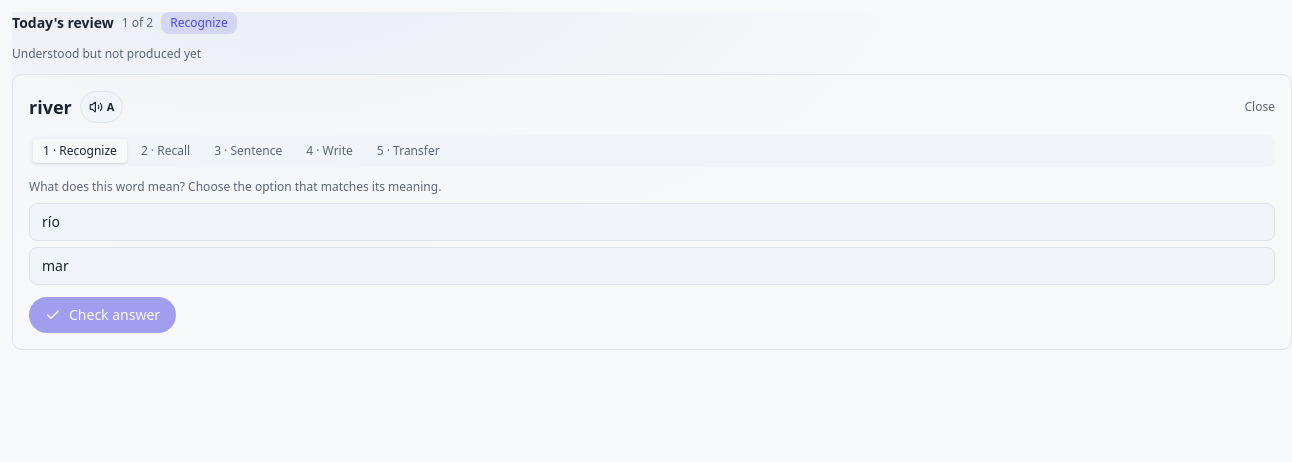
Test: ReviewToday · peldaños reconductivos y accesibilidad (V3.85.1) › un ítem servido como recognition avanza al dar veredicto y encadena (C1)
This screenshot has width=1292, height=462.
Check: the text "1 of 2" is shown, box [122, 15, 153, 31]
Check: the button "Next word" is not shown
Click the button "río" at (51, 222), box [29, 203, 1275, 241]
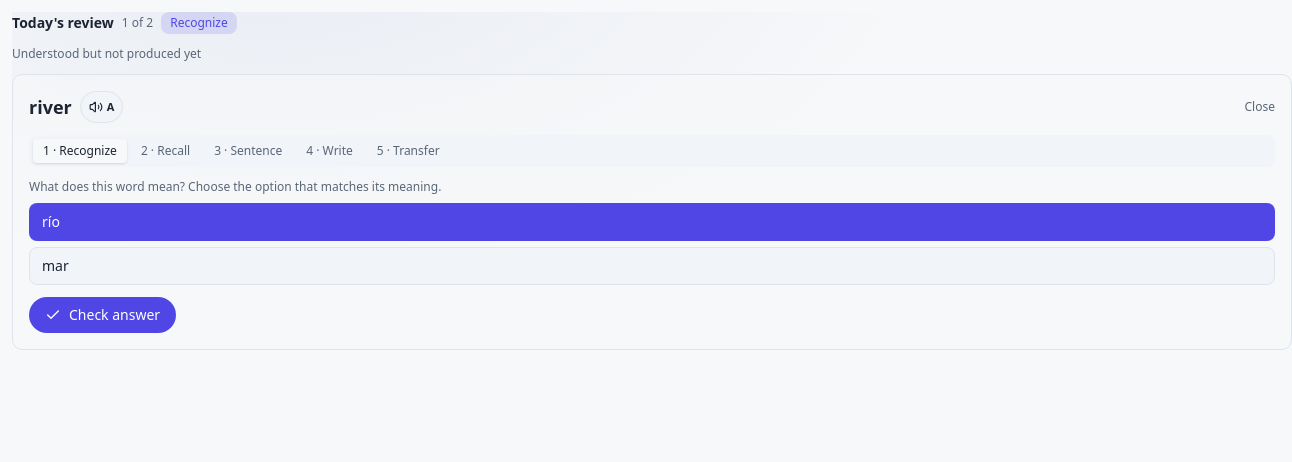
Click the button "Check answer" at (103, 315), box [29, 297, 176, 333]
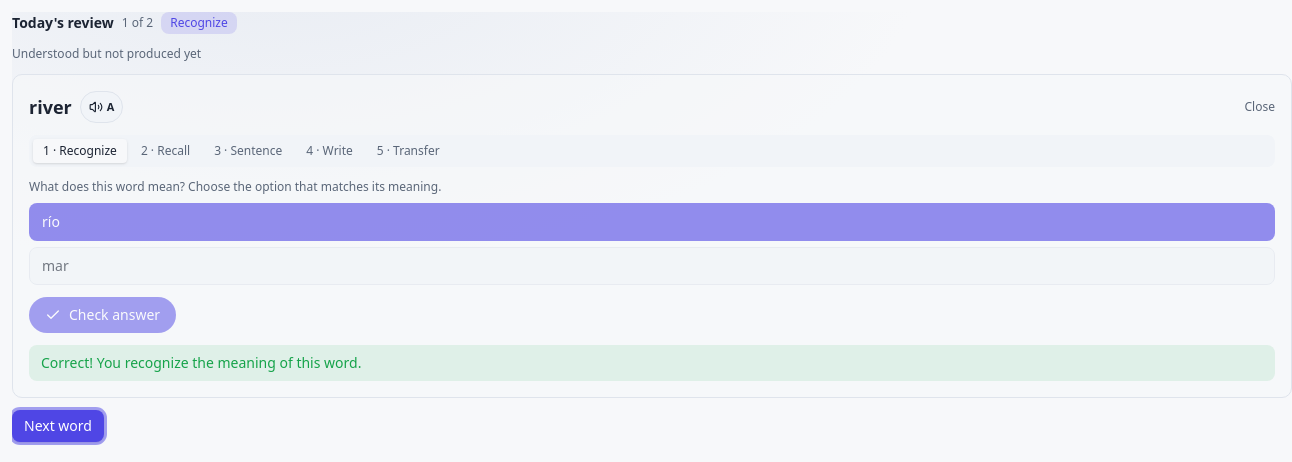
Check: the button "Next word" is shown
Click the button "Next word" at (58, 426), box [12, 410, 104, 442]
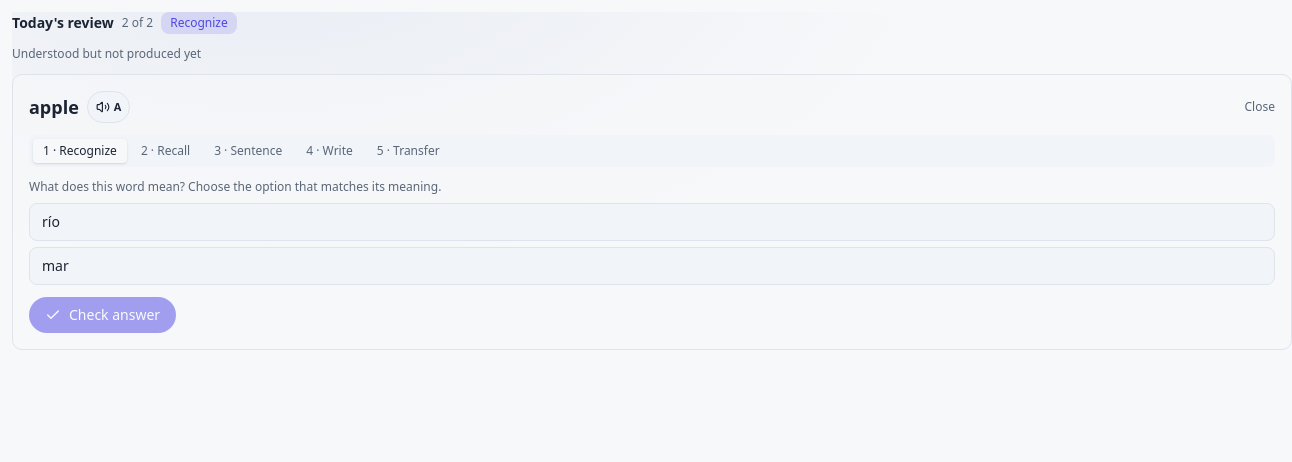
Check: the text "2 of 2" is shown, box [122, 15, 153, 31]
